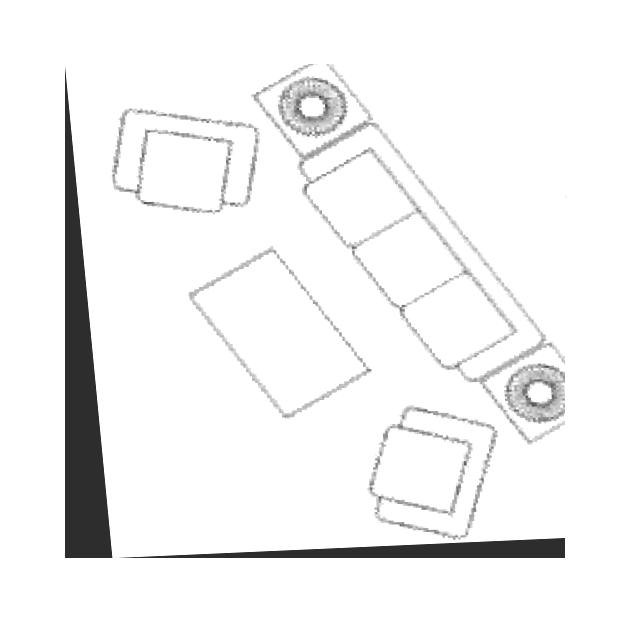sofa: (65, 64, 565, 558)
